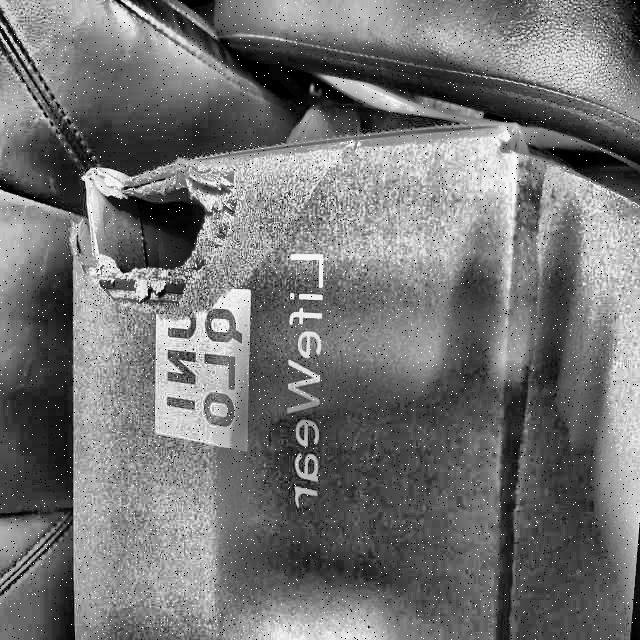box: (51, 107, 630, 640)
hole: (87, 172, 227, 277)
